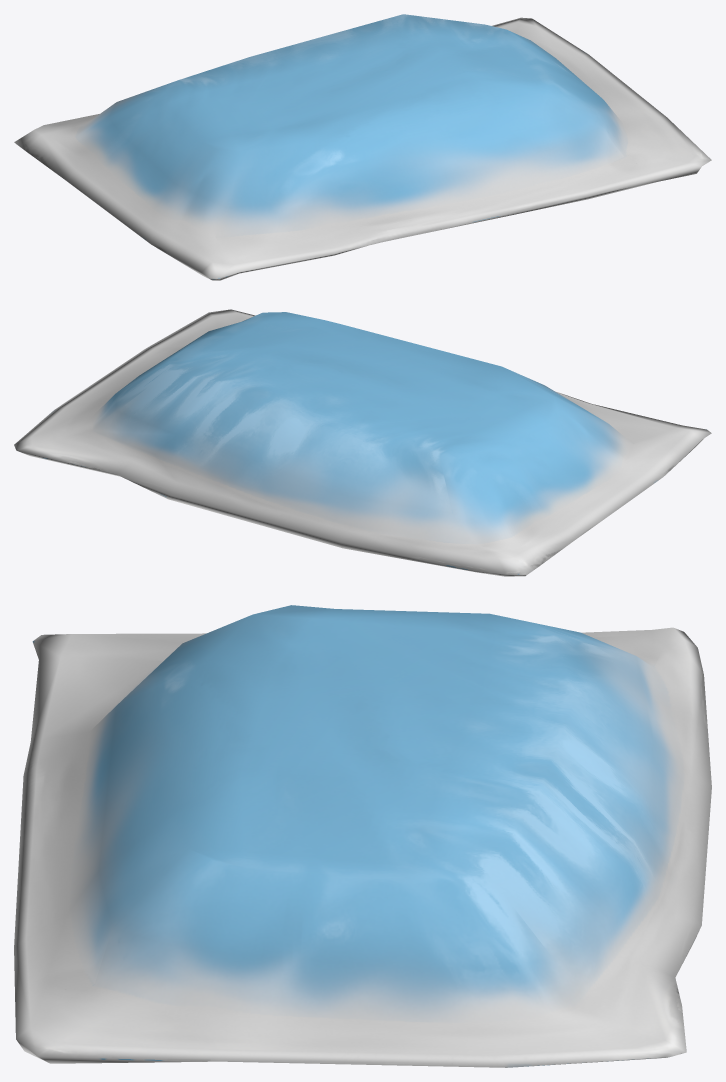
Rendered from cat_pack.fbx.
The picture shows the model from 3 angles, top to bottom: view 1: azimuth 30°, elevation 25°; view 2: azimuth 150°, elevation 25°; view 3: azimuth 270°, elevation 25°; orthographic projection. The views are drawn at different scales.
Visible parts, largest first — view 1: cat_pack; view 2: cat_pack; view 3: cat_pack.
Boxes of the visible parts, x1,y1,x2,y2 form: cat_pack: [14, 14, 711, 280]; cat_pack: [14, 309, 711, 576]; cat_pack: [14, 605, 711, 1067].
Bounding box in the file's own units: 0.3802 × 0.0763 × 0.2588.
